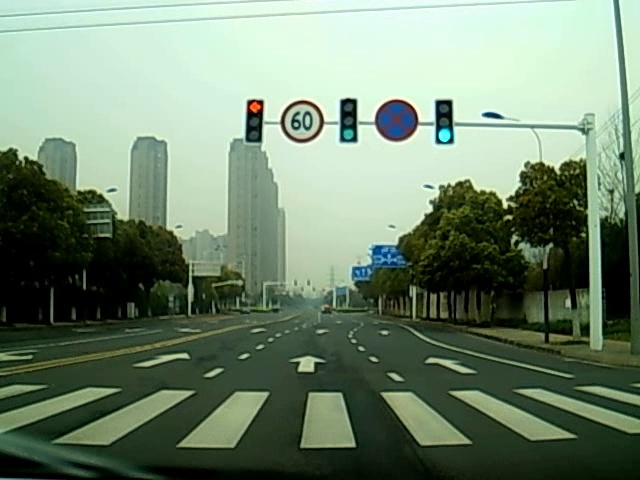Traffic_Light_go: (339, 99, 358, 142), (435, 101, 452, 143)
Traffic_Light_stop: (246, 101, 263, 144)
